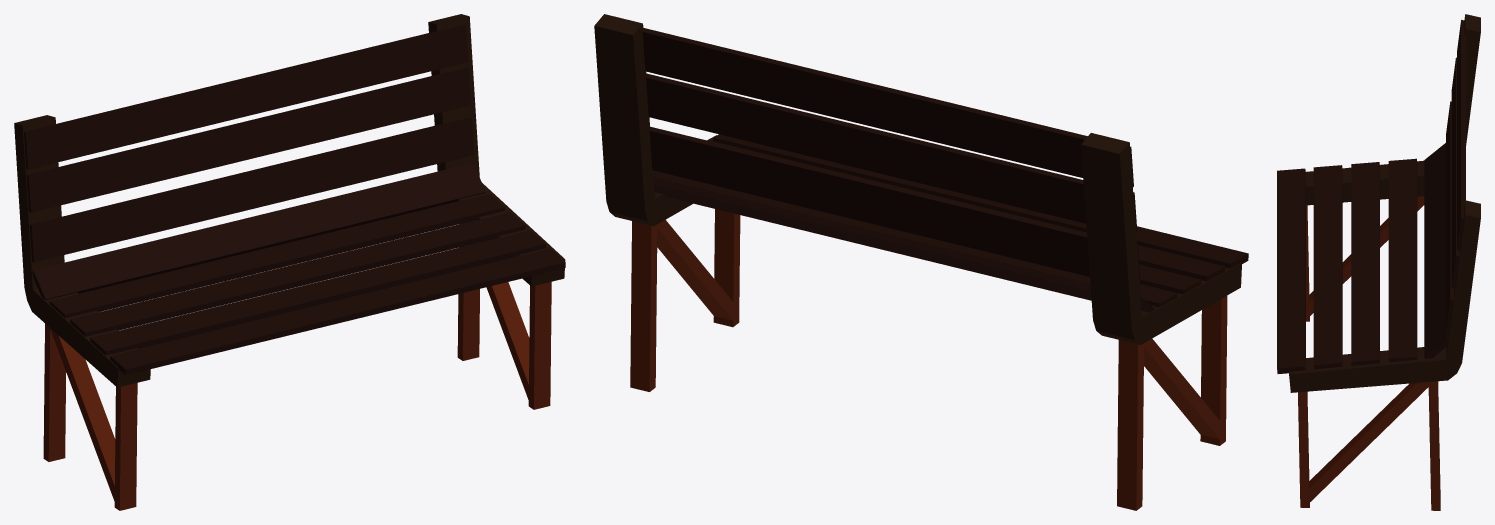
Rendered from Bench 001.FBX.
3 views of the same model, side by side, from view 1: azimuth 30°, elevation 25°; view 2: azimuth 150°, elevation 25°; view 3: azimuth 270°, elevation 25° (orthographic). The views are drawn at different scales.
Visible parts, largest first — view 1: Plank 002, Plank 003, Plank 001, Plank 004, Plank 008, Plank 007, Plank 006, Plank 005, Bench 001, Bench 002, Legs 001, Legs 005 (+4 smaller); view 2: Plank 001, Plank 002, Plank 003, Bench 001, Bench 002, Plank 004, Plank 008, Legs 006, Legs 003, Plank 005, Legs 002, Legs 001 (+4 smaller); view 3: Bench 002, Plank 007, Plank 005, Plank 008, Plank 006, Plank 004, Legs 004, Bench 001, Plank 001, Plank 003, Plank 002, Legs 006 (+3 smaller).
Part boxes in pixels (x1,y1,x2,y2): Plank 002: (26,68,470,212); Plank 003: (29,117,473,262); Plank 001: (24,25,468,169); Plank 004: (32,163,485,299); Plank 008: (110,248,565,375); Plank 007: (90,230,545,355); Plank 006: (70,212,525,336); Plank 005: (49,193,505,318); Bench 001: (14,115,150,387); Bench 002: (428,14,565,286); Legs 001: (50,328,117,501); Legs 005: (528,282,551,409); Plank 001: (642,28,1133,186); Plank 002: (646,73,1137,233); Plank 003: (649,126,1140,286); Bench 001: (1081,133,1241,344); Bench 002: (594,14,716,226); Plank 004: (652,177,1154,312); Plank 008: (713,134,1248,268); Legs 006: (630,221,657,391); Legs 003: (1117,340,1143,510); Plank 005: (653,170,1177,307); Legs 002: (1200,296,1227,445); Legs 001: (1142,338,1223,439); Bench 002: (1289,200,1480,392); Plank 007: (1313,165,1342,369); Plank 005: (1388,158,1417,362); Plank 008: (1277,168,1305,373); Plank 006: (1351,162,1379,365); Plank 004: (1424,143,1448,358); Legs 004: (1303,381,1432,502); Bench 001: (1305,14,1480,205); Plank 001: (1457,19,1465,250); Plank 003: (1446,101,1453,332); Plank 002: (1451,57,1459,288); Legs 006: (1428,381,1440,510).
Size of the model in its own units: 1.44 by 0.9995 by 0.6159.
